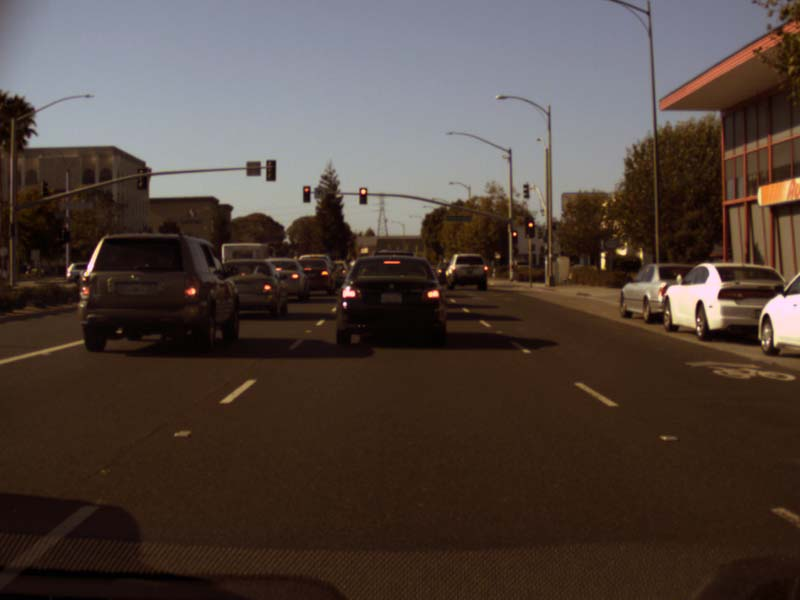Red: (302, 185, 310, 202), (526, 222, 535, 236), (359, 187, 365, 204), (511, 230, 516, 243)
